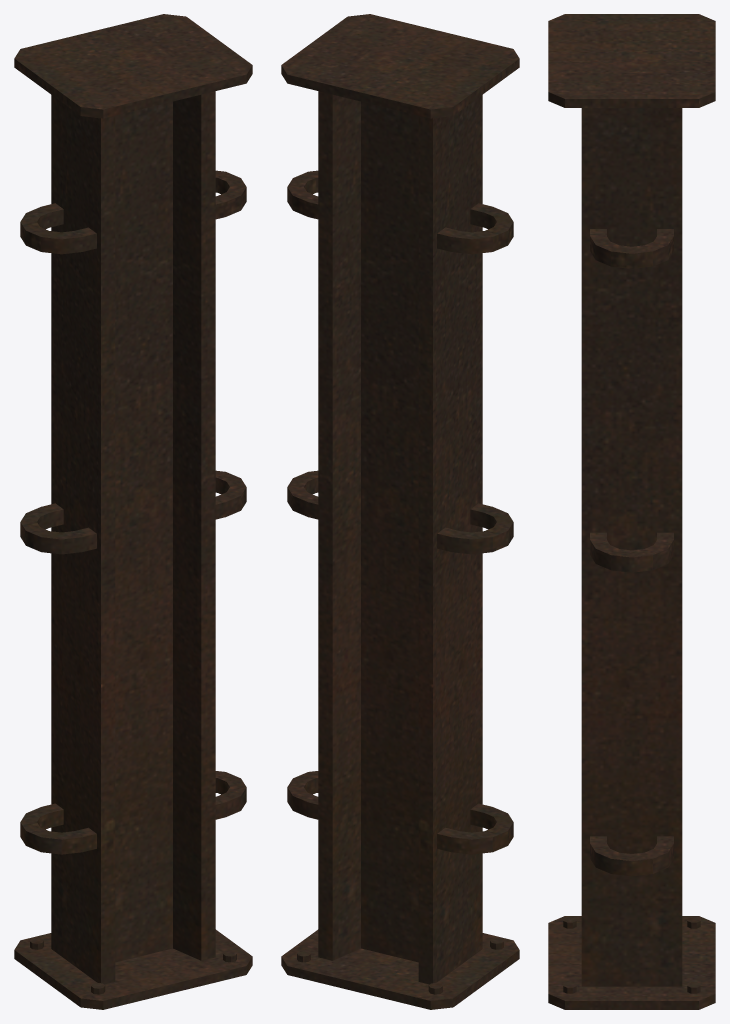
Rendered from beam_hc_vertical_2.dae.
The picture shows the model from 3 angles, left to right: view 1: azimuth 30°, elevation 25°; view 2: azimuth 150°, elevation 25°; view 3: azimuth 270°, elevation 25°; orthographic projection.
Parts seen in each view (by area): view 1: beam_hc_vertical_2; view 2: beam_hc_vertical_2; view 3: beam_hc_vertical_2.
Part boxes in pixels (x1=…): beam_hc_vertical_2: x1=14, y1=14, x2=252, y2=1009; beam_hc_vertical_2: x1=281, y1=14, x2=519, y2=1009; beam_hc_vertical_2: x1=548, y1=14, x2=715, y2=1009.
Bounding box in the file's own units: 0.75 × 0.5 × 3.
Materials: 1 (1 with a texture image).
